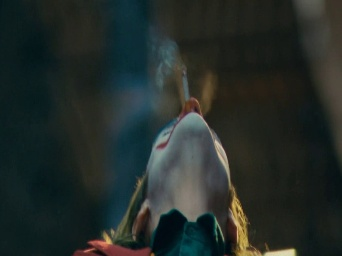smoke: (182, 68, 192, 114)
